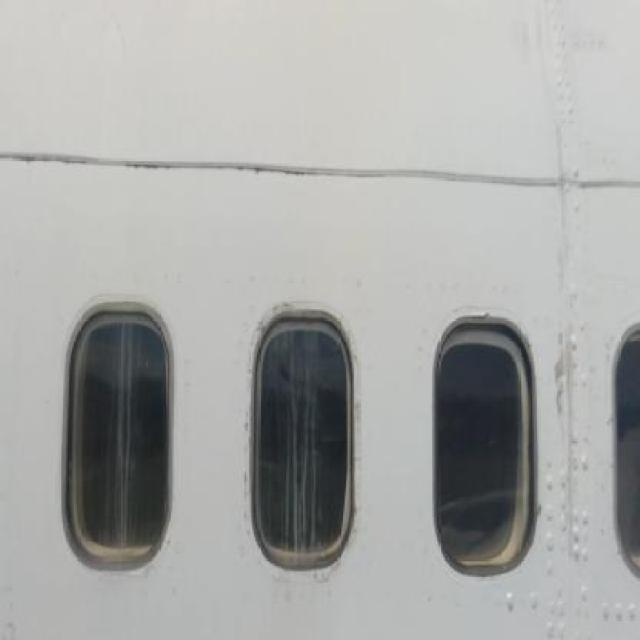Scartch: (541, 288, 602, 462), (347, 330, 375, 542), (233, 334, 256, 560), (257, 288, 311, 322), (310, 558, 344, 584)
